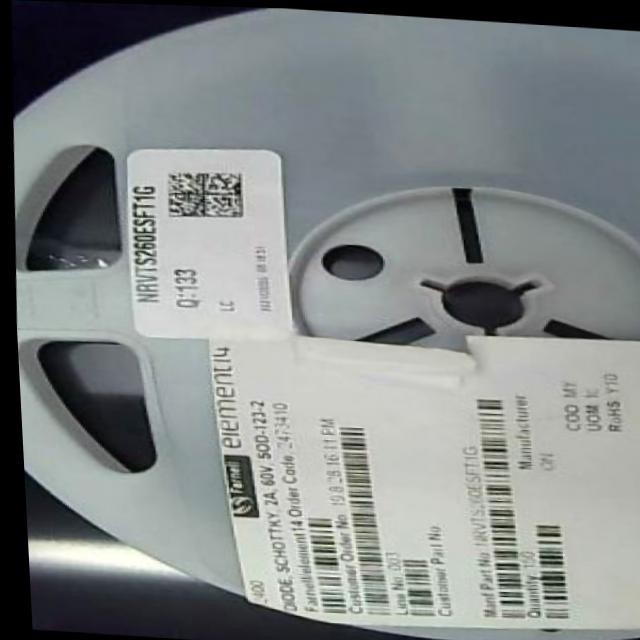datamatrix: (158, 164, 246, 221)
